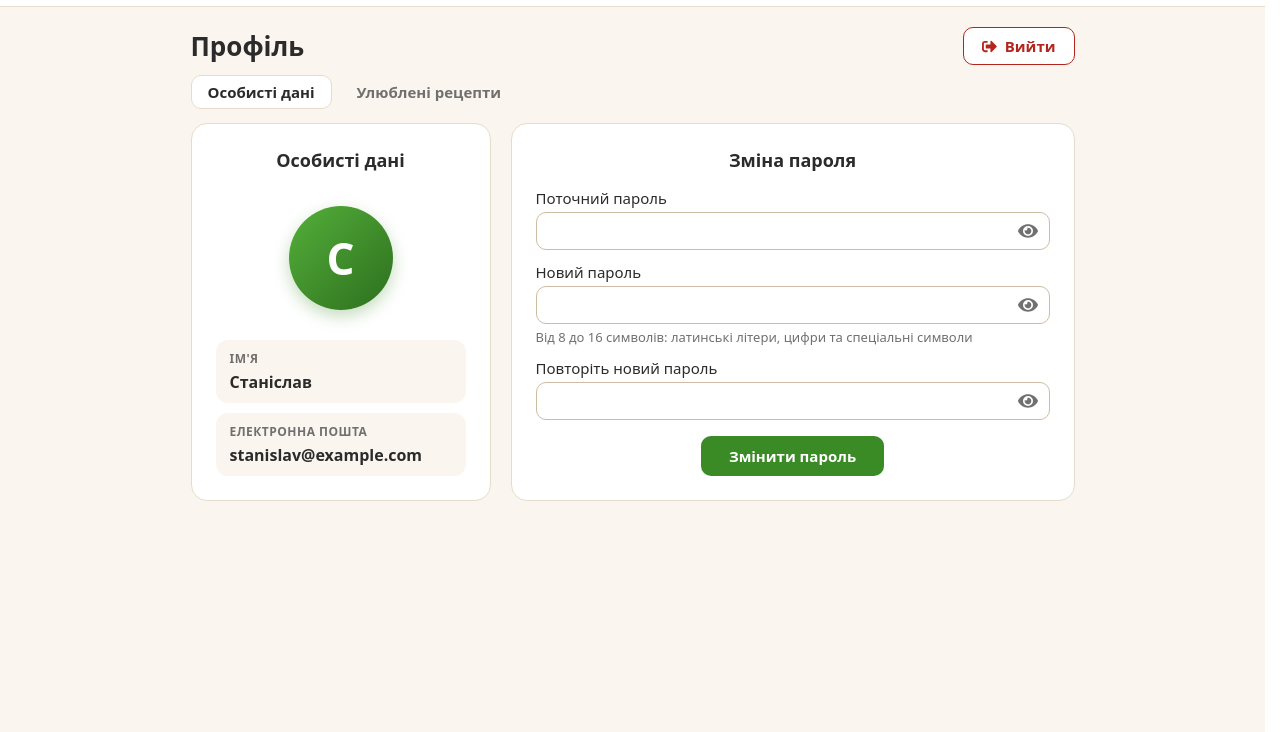
Test: User journeys: favorites › browses and deletes recipe
Click the link "Улюблені рецепти" at [429, 92], box x1=357 y1=82 x2=501 y2=102
(page scrolled)
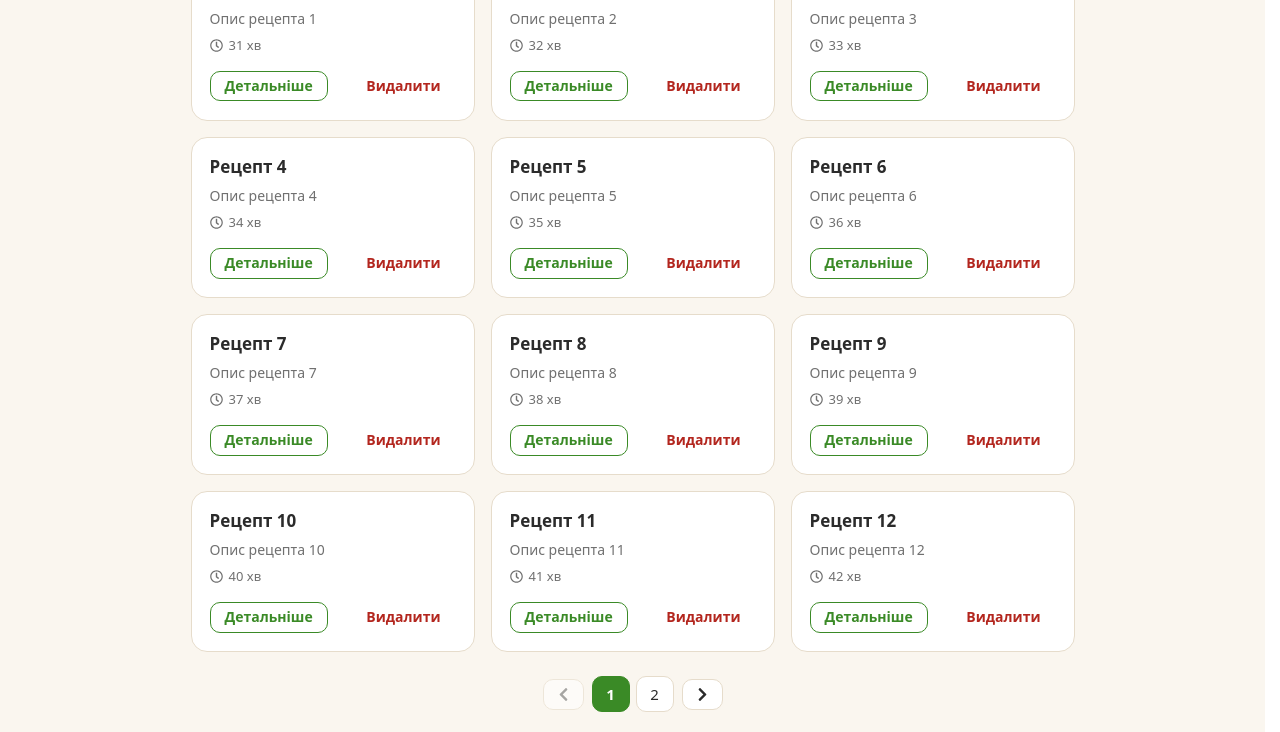
Click the button "2" at [654, 694], box x1=636 y1=676 x2=674 y2=712
(page scrolled)
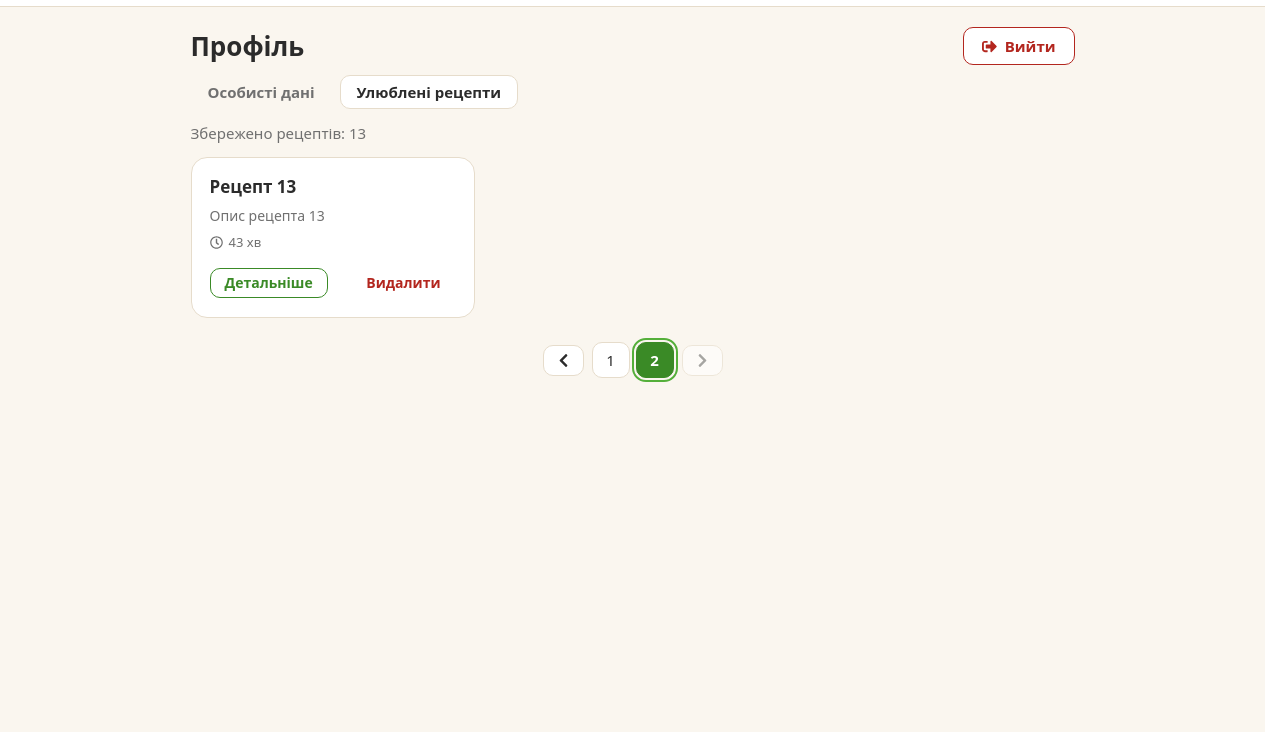
Click the link with aria-label "Детальніше: Рецепт 13" at [269, 283], box x1=210 y1=268 x2=328 y2=298
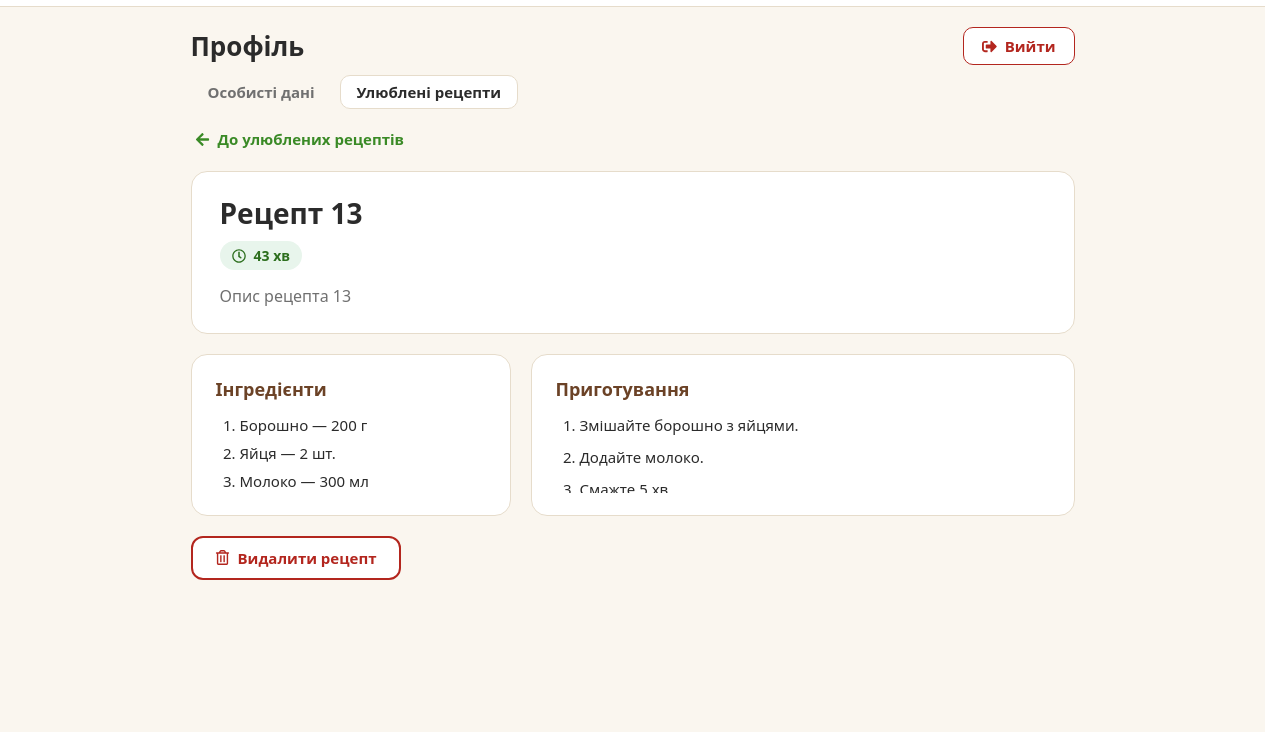
expect the heading "Рецепт 13" is shown: met, box x1=220 y1=194 x2=362 y2=232
Click the button "Видалити рецепт" at [296, 558], box x1=190 y1=536 x2=400 y2=580
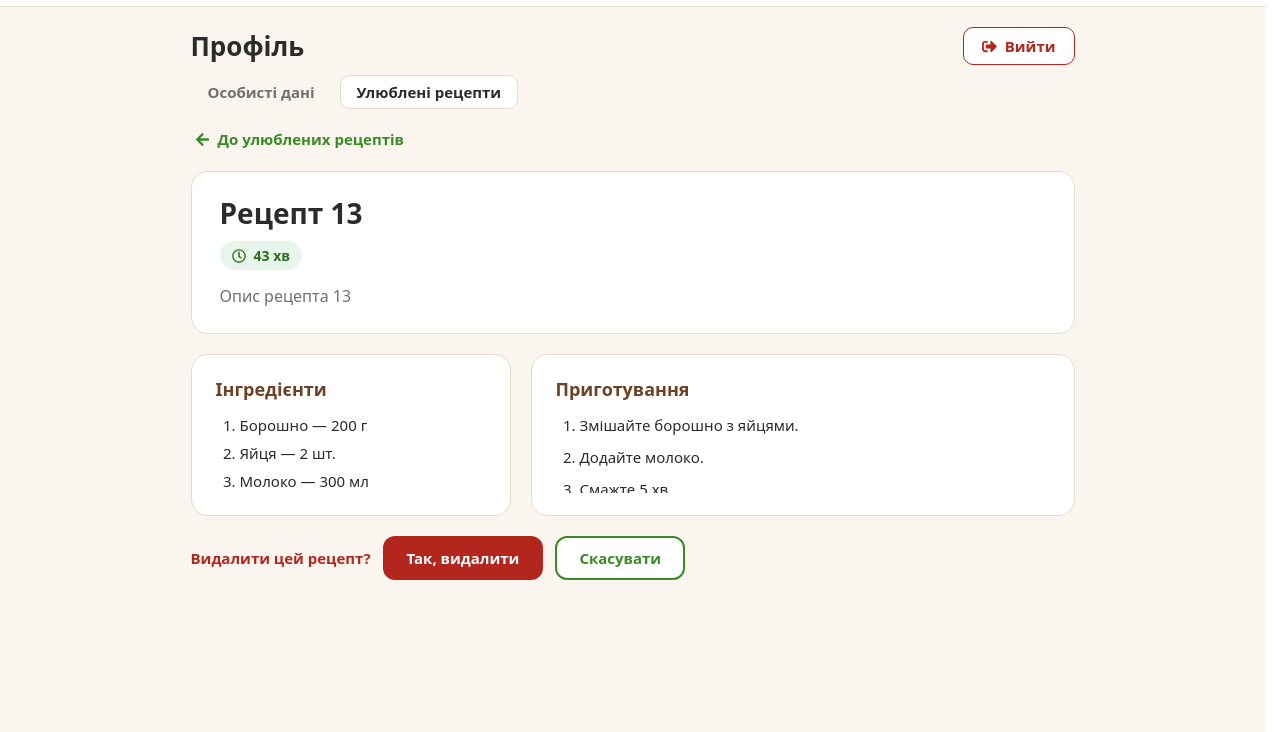
Click the button "Так, видалити" at [463, 558], box x1=382 y1=536 x2=543 y2=580
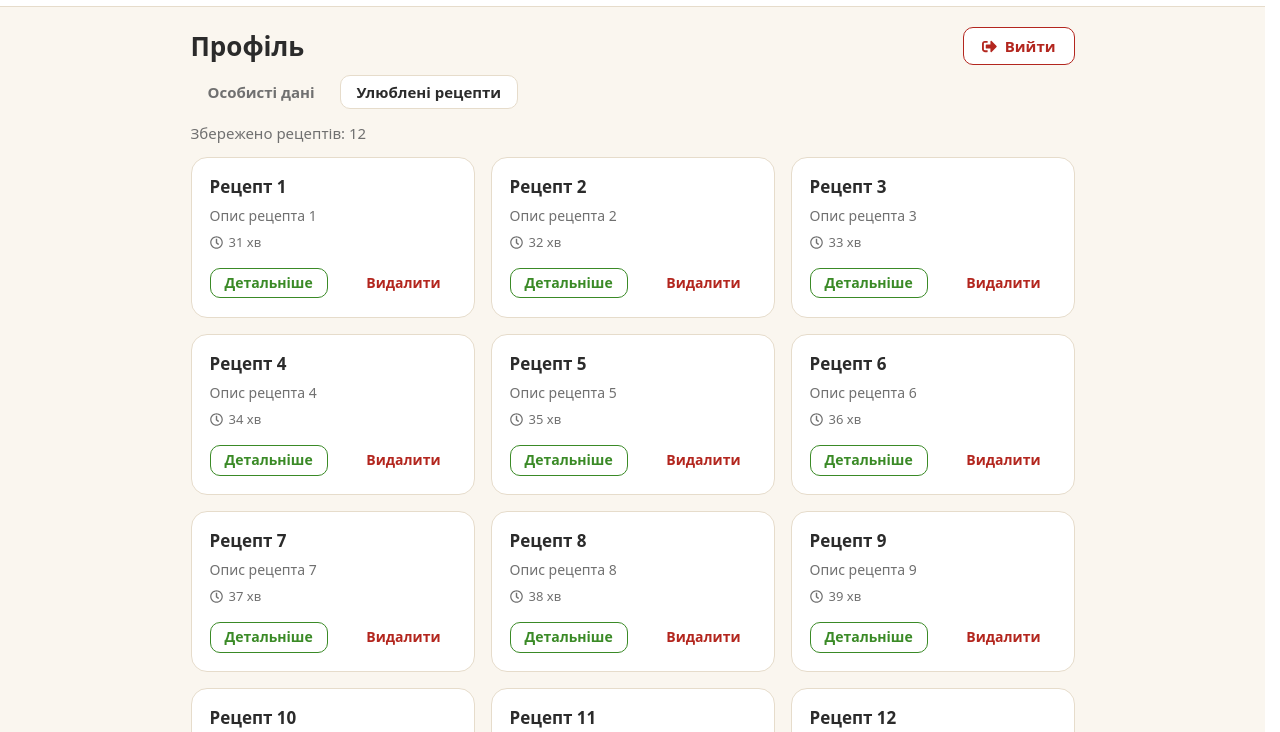
expect the text "Збережено рецептів: 12" is shown: met, box x1=190 y1=123 x2=366 y2=143
